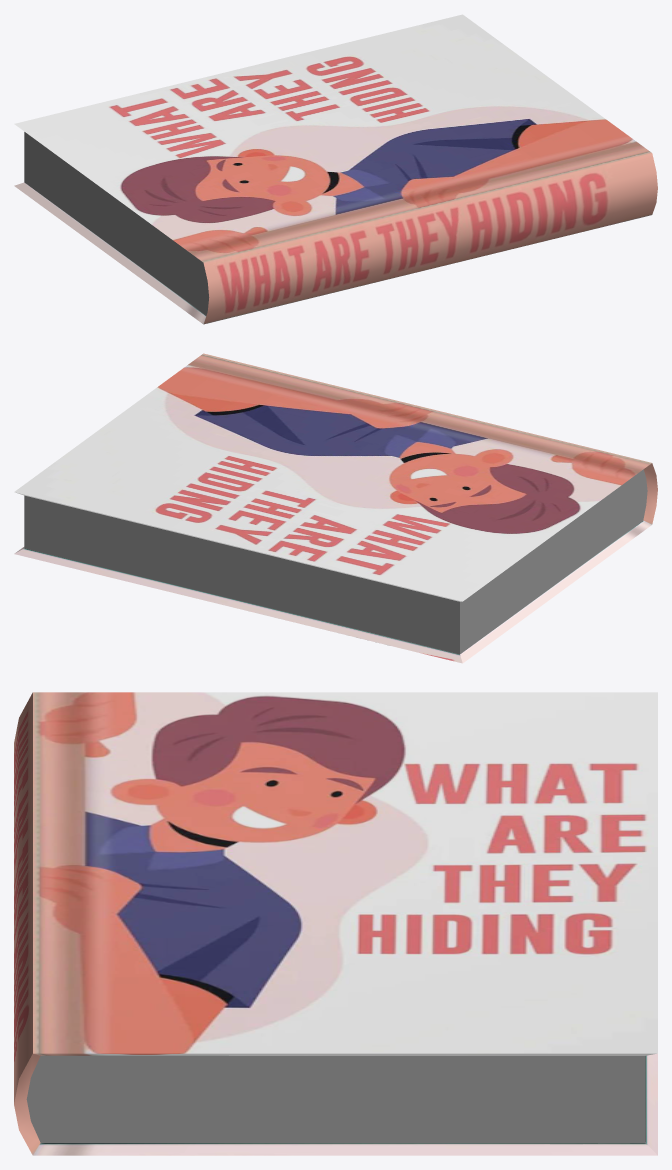
The model's file is book.fbx.
3 views of the same model, one above another, from view 1: azimuth 30°, elevation 25°; view 2: azimuth 150°, elevation 25°; view 3: azimuth 270°, elevation 25° (orthographic). The views are drawn at different scales.
Parts seen in each view (by area): view 1: pCube1; view 2: pCube1; view 3: pCube1.
Part boxes in pixels (box(x1,y1,x2,y2)): pCube1: box(14, 14, 657, 324); pCube1: box(14, 353, 657, 663); pCube1: box(14, 692, 657, 1155).
Size of the model in its own units: 1.37 by 0.1803 by 1.03.
